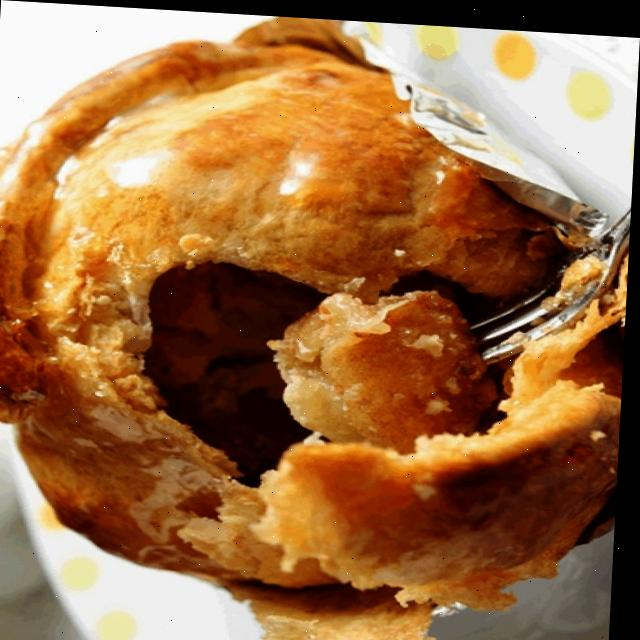炸货点心: (0, 8, 640, 640)
蛋糕甜品: (0, 8, 640, 640)
